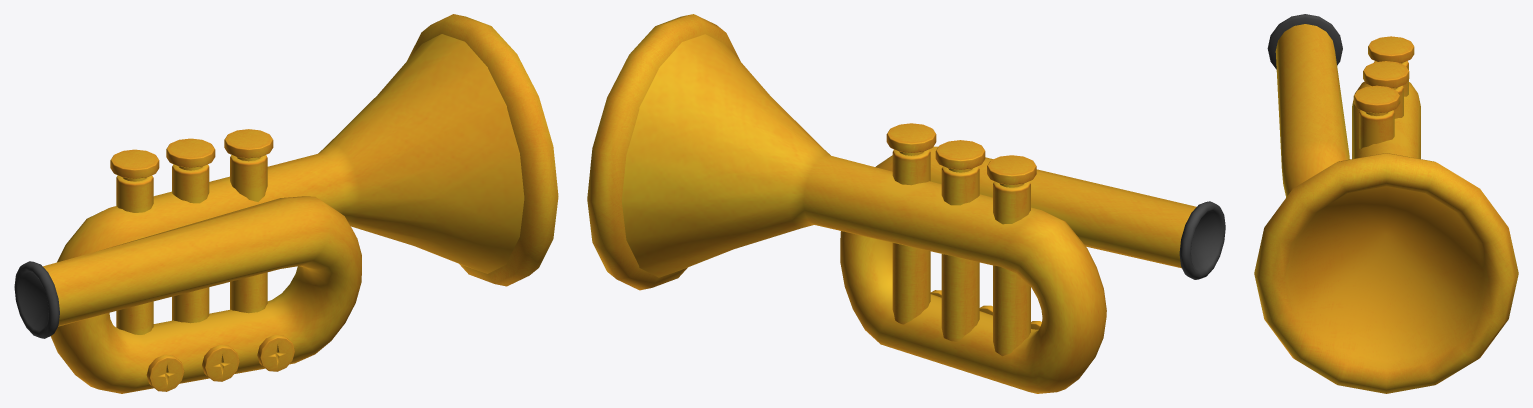
Rendered from trumpet_yellow.fbx.
The picture shows the model from 3 angles, left to right: view 1: azimuth 30°, elevation 25°; view 2: azimuth 150°, elevation 25°; view 3: azimuth 270°, elevation 25°; orthographic projection. The views are drawn at different scales.
Visible parts, largest first — view 1: trumpet_yellow; view 2: trumpet_yellow; view 3: trumpet_yellow.
Boxes of the visible parts, x1,y1,x2,y2 form: trumpet_yellow: (14, 14, 558, 393); trumpet_yellow: (587, 14, 1225, 393); trumpet_yellow: (1254, 14, 1518, 393).
Bounding box in the file's own units: 0.9961 × 0.5152 × 0.4745.
